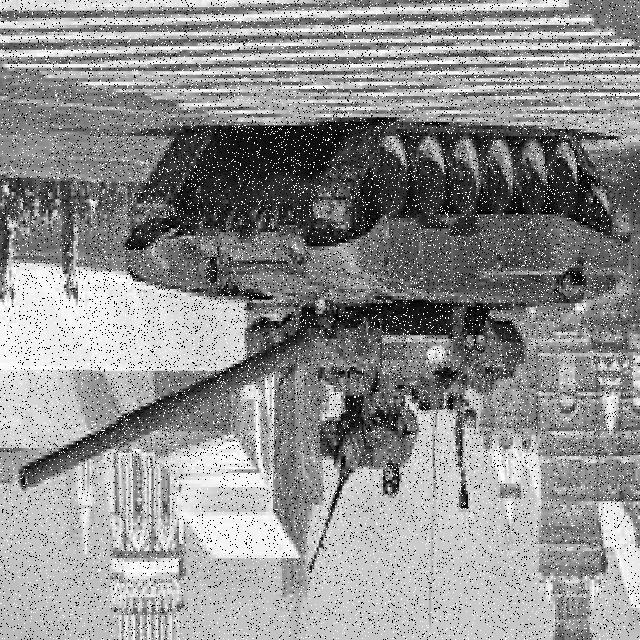MIL_MBT: (92, 120, 628, 468)
